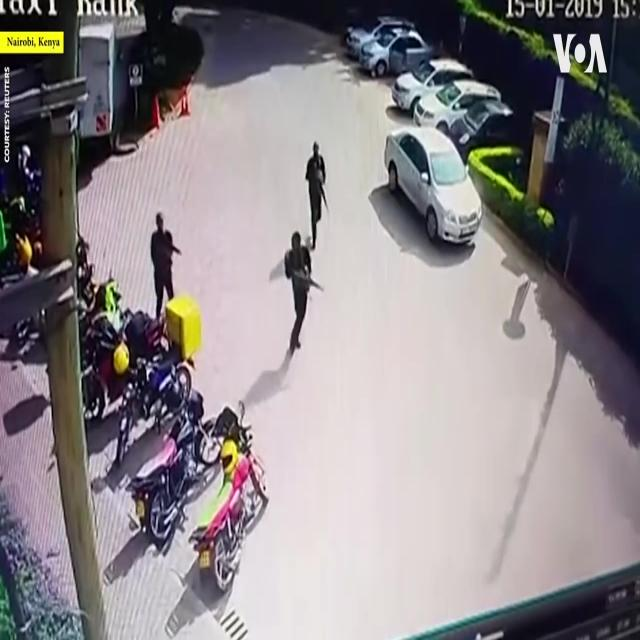Weapon: (288, 254, 332, 315), (312, 154, 338, 217)
